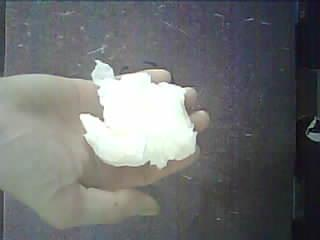paper: (80, 60, 196, 168)
